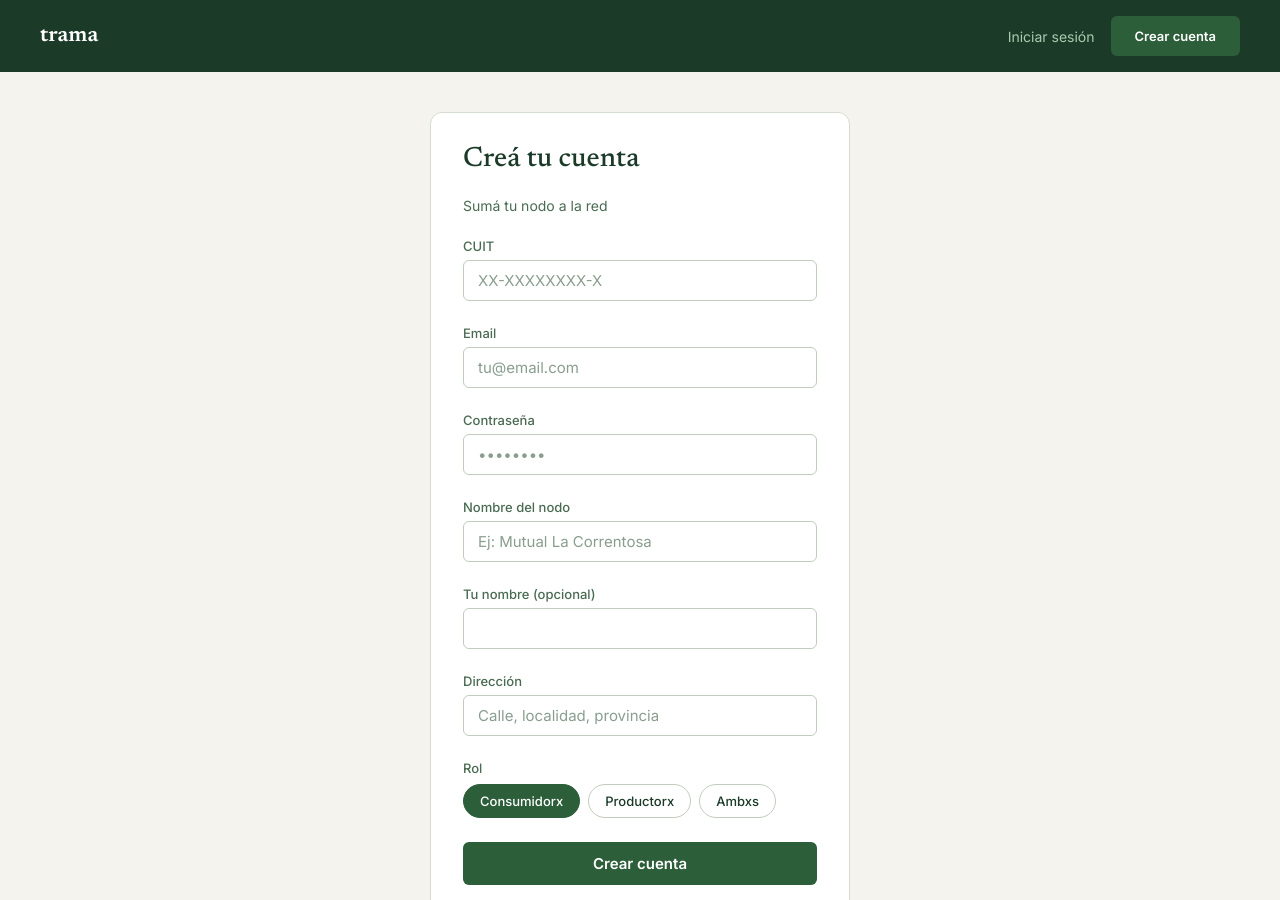
Test: Signup › strips non-digits from the CUIT input as the user types
In the field labelled "CUIT": (640, 280) [463,260,817,301], type "abc20-12def345678!6"
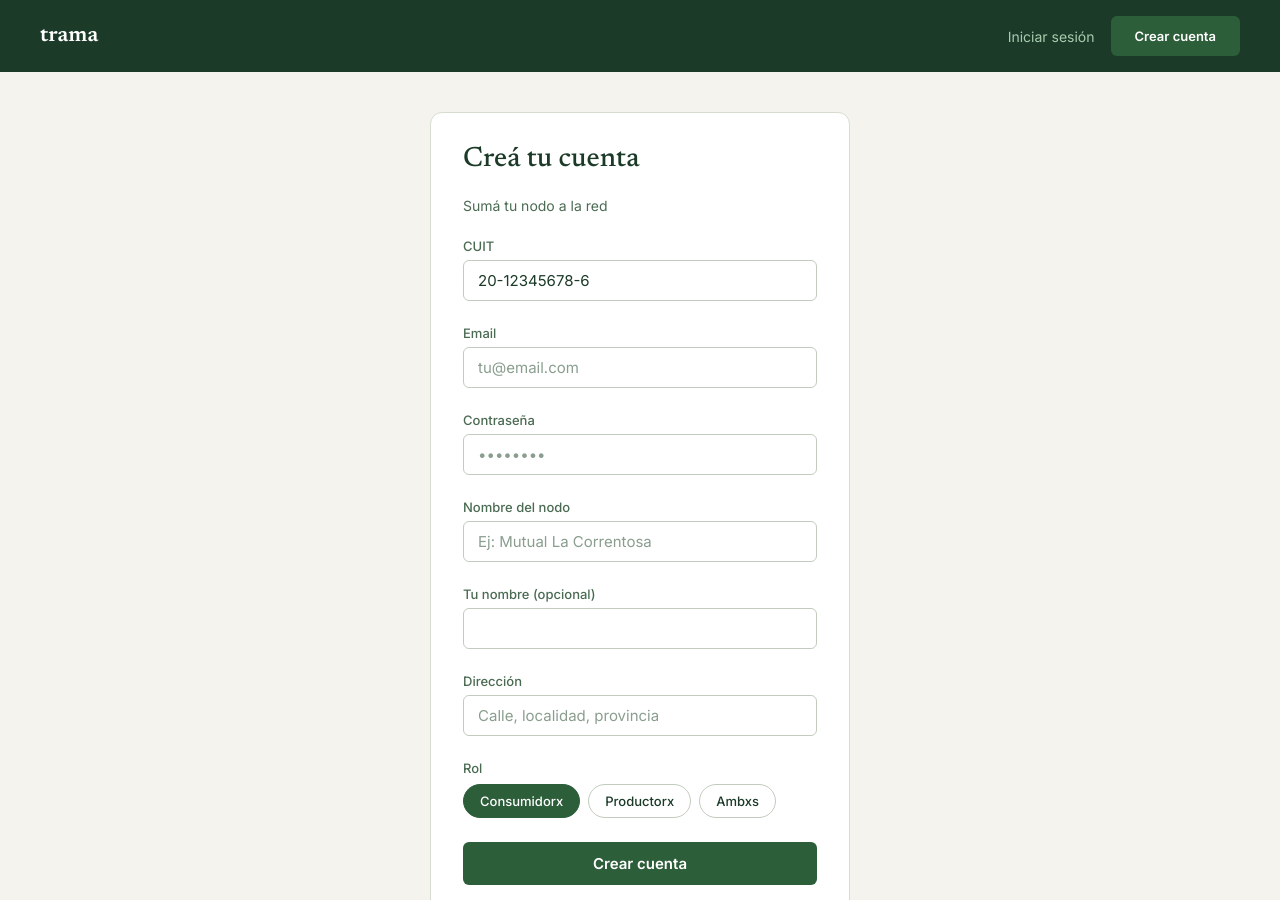
Now the field labelled "CUIT" holds "20-12345678-6", box [463,260,817,301]
